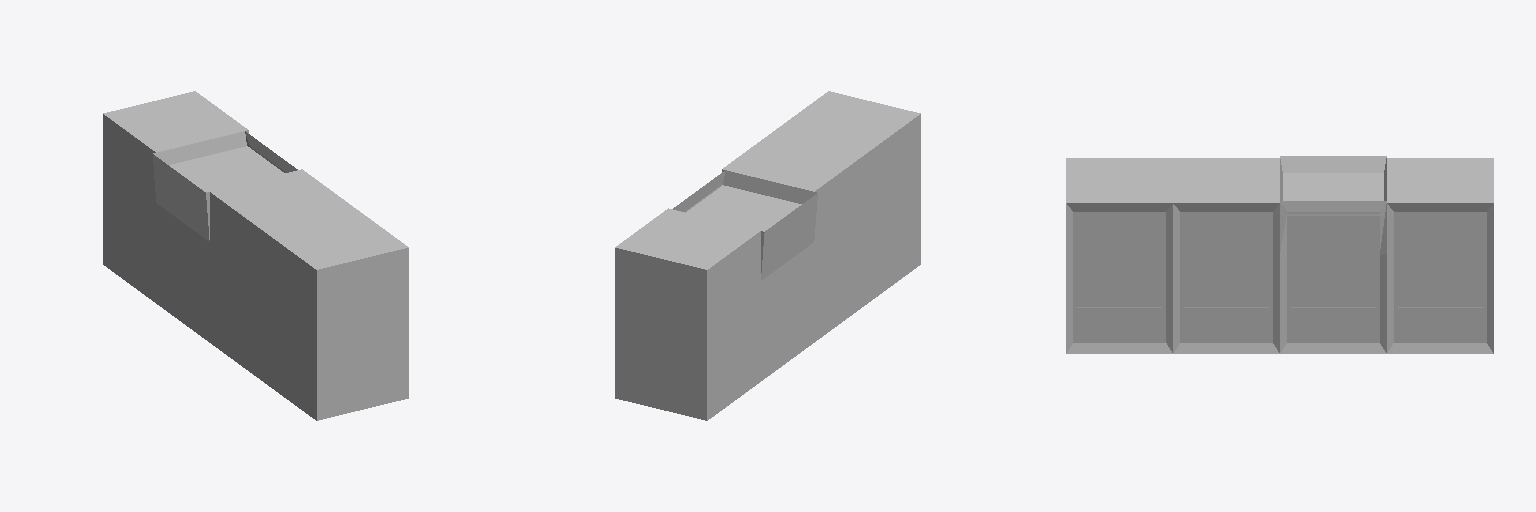
File: skåp.obj
3 views of the same model, side by side, from view 1: azimuth 30°, elevation 25°; view 2: azimuth 150°, elevation 25°; view 3: azimuth 270°, elevation 25° (orthographic).
Parts seen in each view (by area): view 1: Cube.013_Cube.021; view 2: Cube.013_Cube.021; view 3: Cube.013_Cube.021.
Part boxes in pixels (bbox=[...]): Cube.013_Cube.021: bbox=[103, 91, 408, 420]; Cube.013_Cube.021: bbox=[615, 91, 920, 420]; Cube.013_Cube.021: bbox=[1066, 156, 1493, 353].
Bounding box in the file's own units: 11.29 × 16.27 × 41.77.